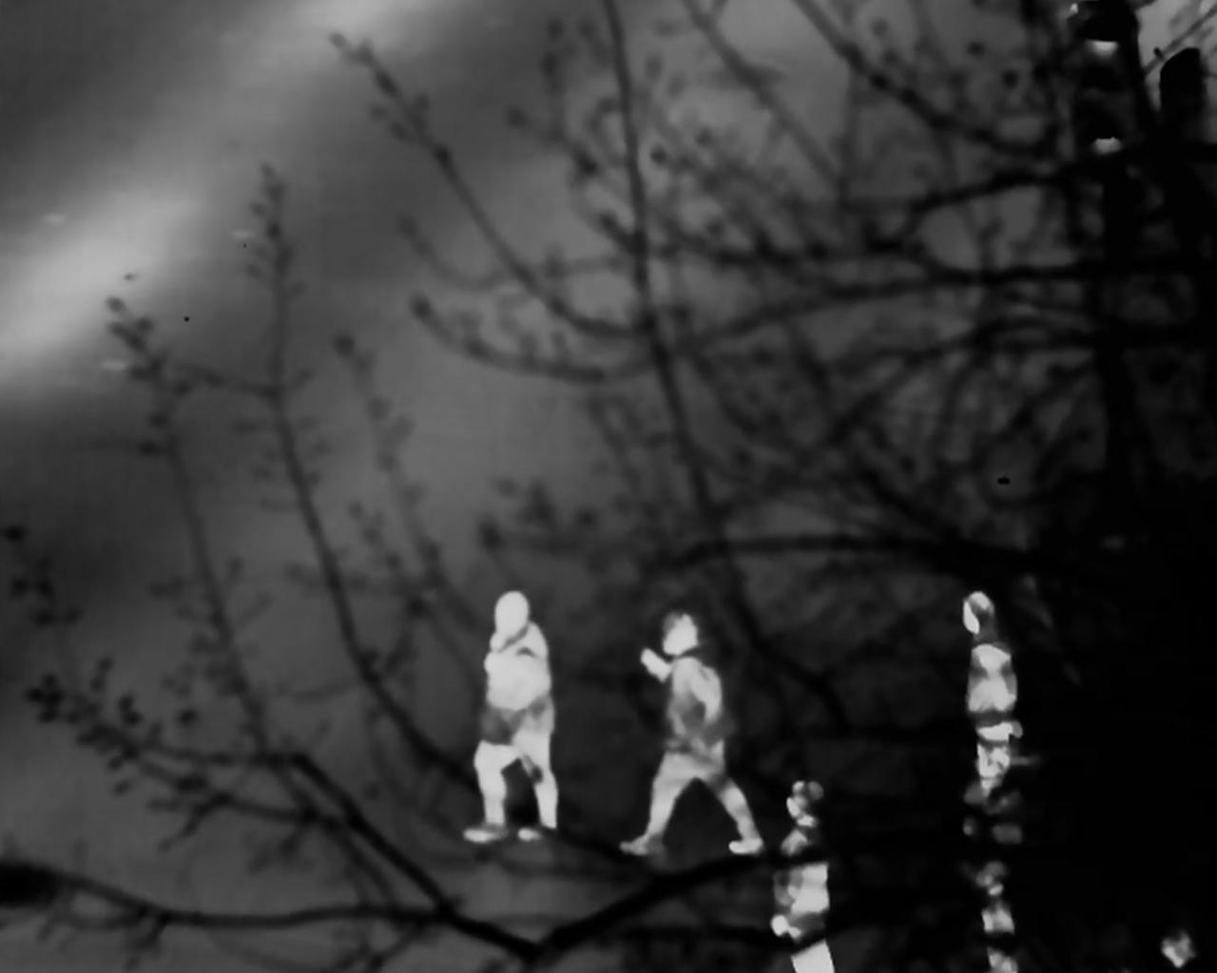person: (626, 612, 765, 858), (466, 593, 570, 851), (953, 590, 1027, 828), (771, 776, 843, 972)
